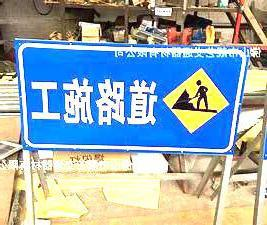sign: (16, 40, 242, 155)
